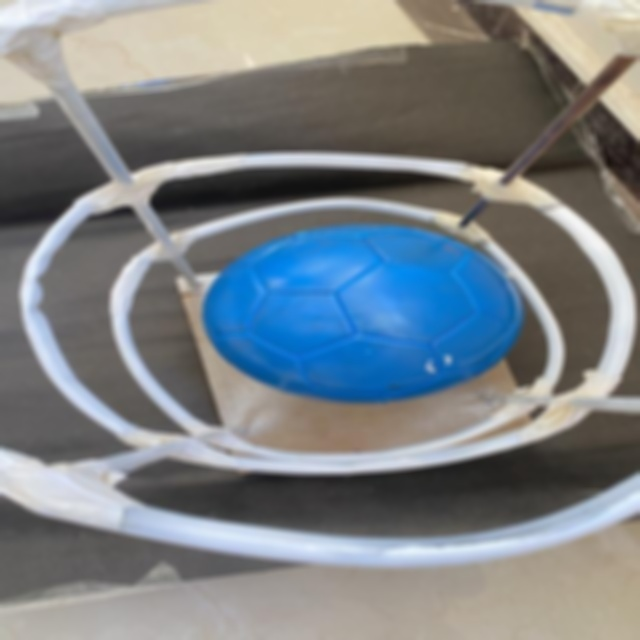blue_ball: (206, 224, 530, 401)
silo: (0, 4, 640, 562)
